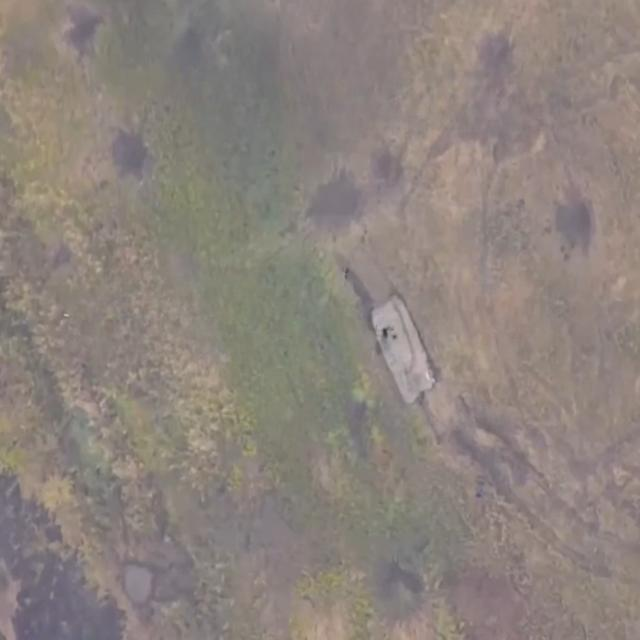MBT: (370, 291, 436, 411)
